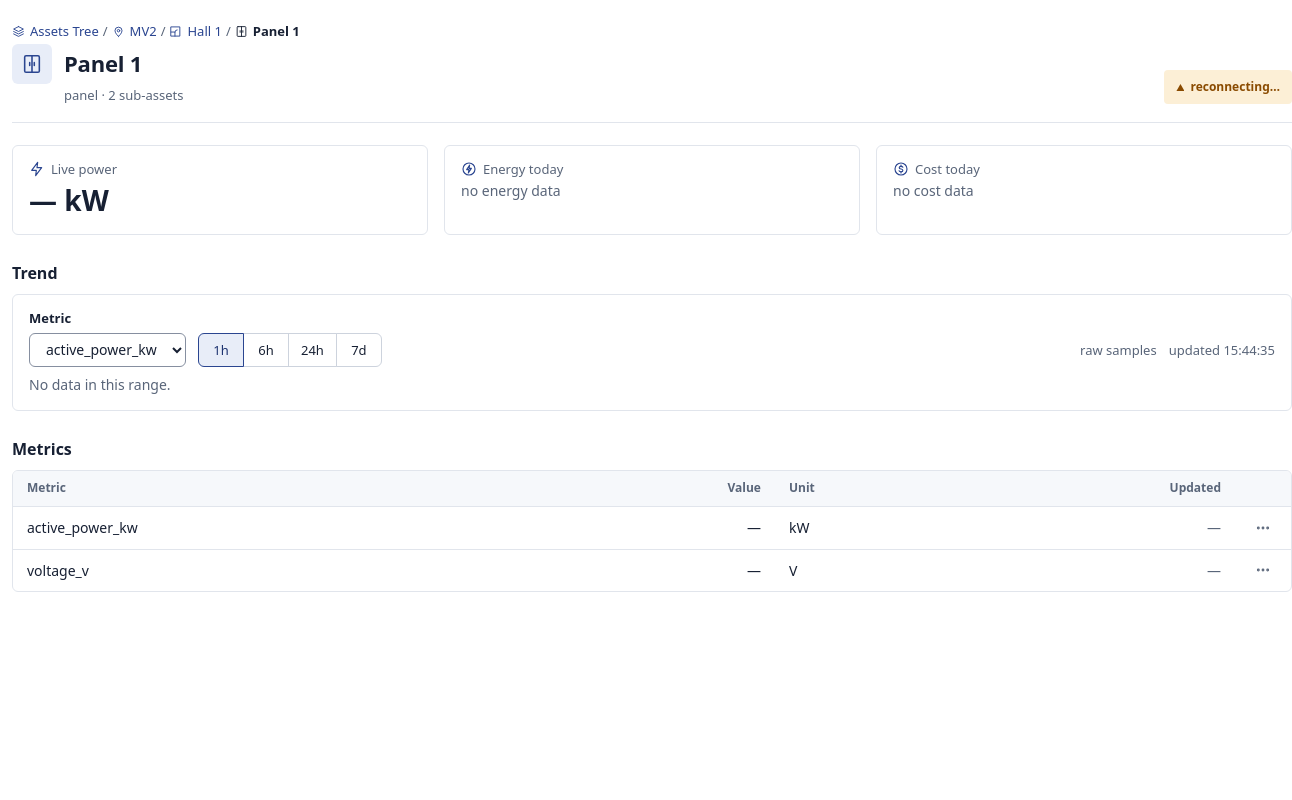
Test: AssetPage mapping actions (W12a) › gives an admin a menu on every row: Unmap… (danger) and Move to another asset…
This screenshot has width=1292, height=800.
Click the button named "Actions for voltage_v". click: {"x": 1263, "y": 570}
box: [1249,556,1277,584]
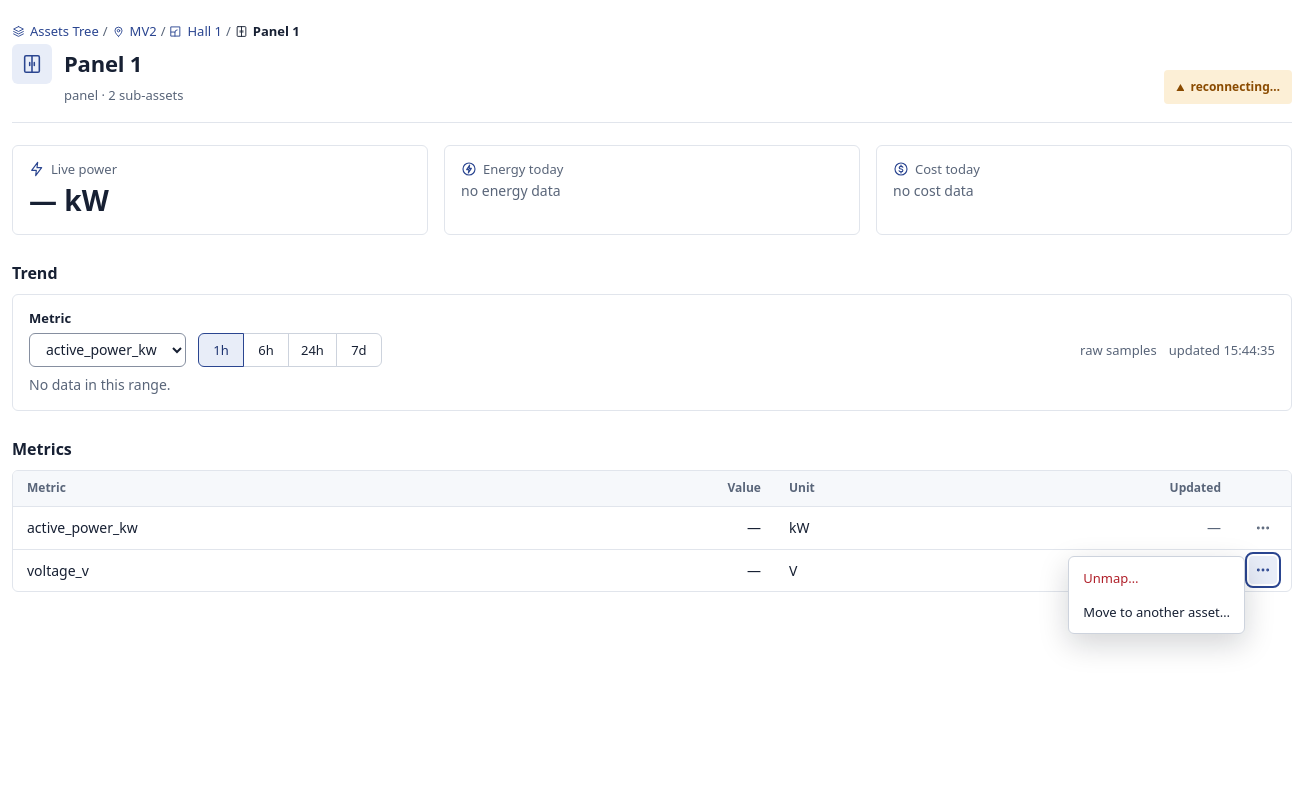
Expected: the number of column headings is 5, [13,471,519,507]; [519,471,775,507]; [775,471,954,507]; [954,471,1235,507]; [1235,471,1291,507]
Expected: the menu items read "Unmap…", "Move to another asset…", in this order, [1073,561,1240,595]; [1073,595,1240,629]
